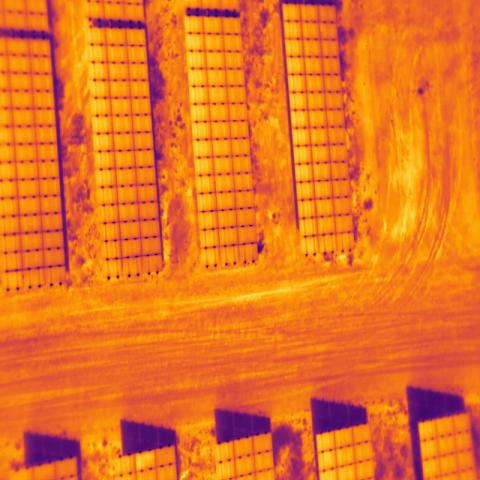fault: (136, 451, 155, 472)
